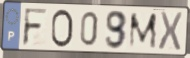0: (80, 10, 100, 49)
9: (104, 9, 129, 51)
F: (21, 7, 49, 48)
M: (127, 12, 158, 50)
O: (50, 8, 74, 49)
X: (157, 11, 184, 53)
